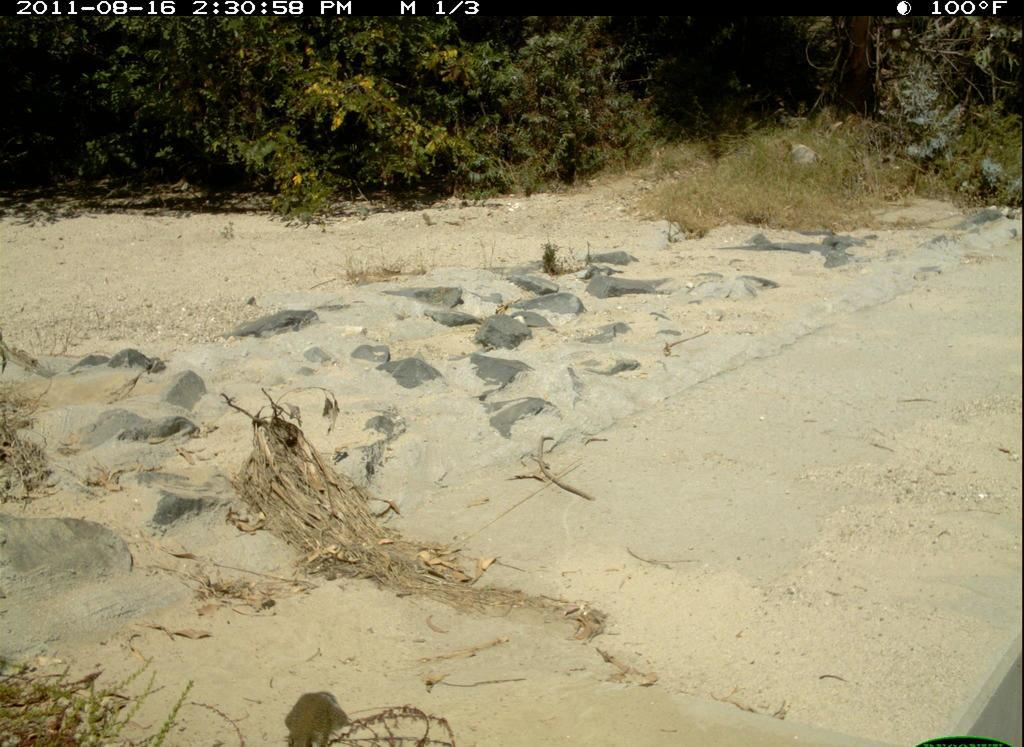squirrel: (278, 688, 349, 747)
